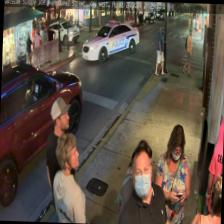person: (43, 96, 78, 222), (117, 146, 171, 224), (151, 123, 191, 224), (50, 132, 90, 222), (120, 138, 152, 224), (189, 172, 221, 224)
